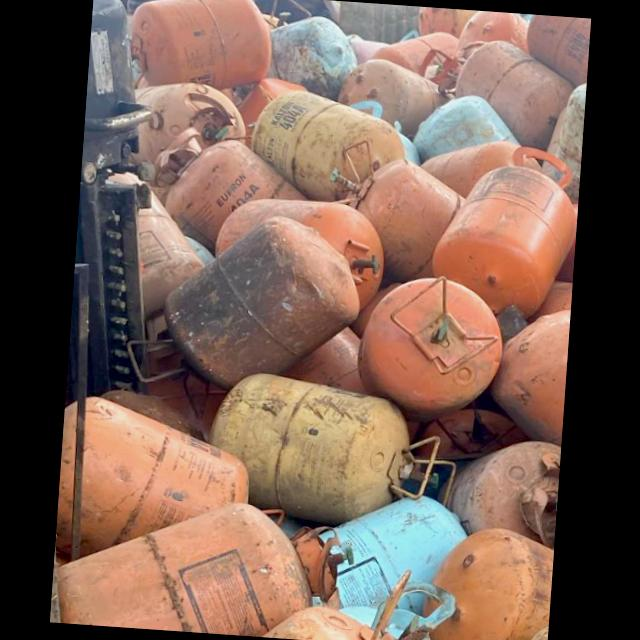Cylinders: (52, 500, 350, 636), (206, 371, 450, 521), (423, 152, 578, 319)
